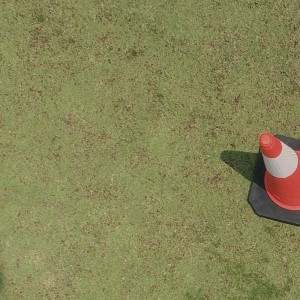traffic cone: (247, 132, 300, 226)
